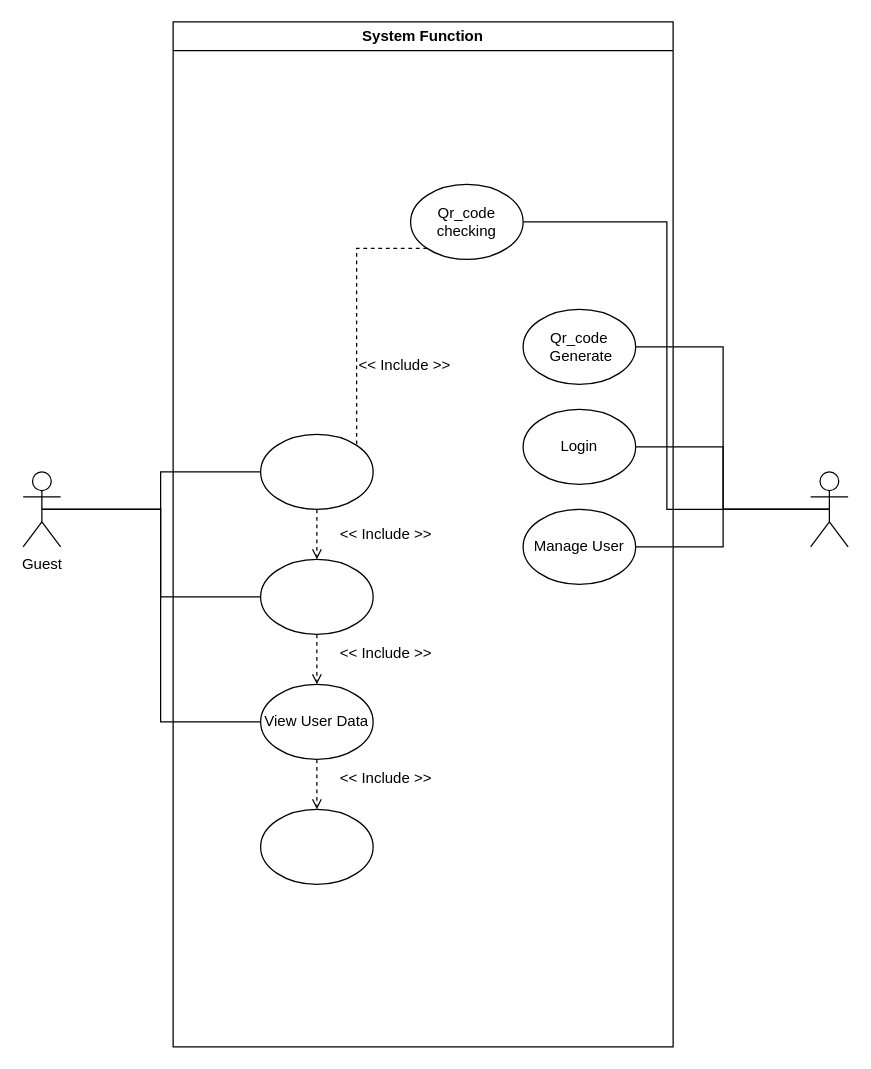
Some shapes in this 871 by 1069 pixel diagram are drawn without their labels. Each missing label, with the centre of its shape:
Admin: the point at 828,509
Qr_code Scan: the point at 316,471
Register Guest Data: the point at 316,596
View map: the point at 316,846
